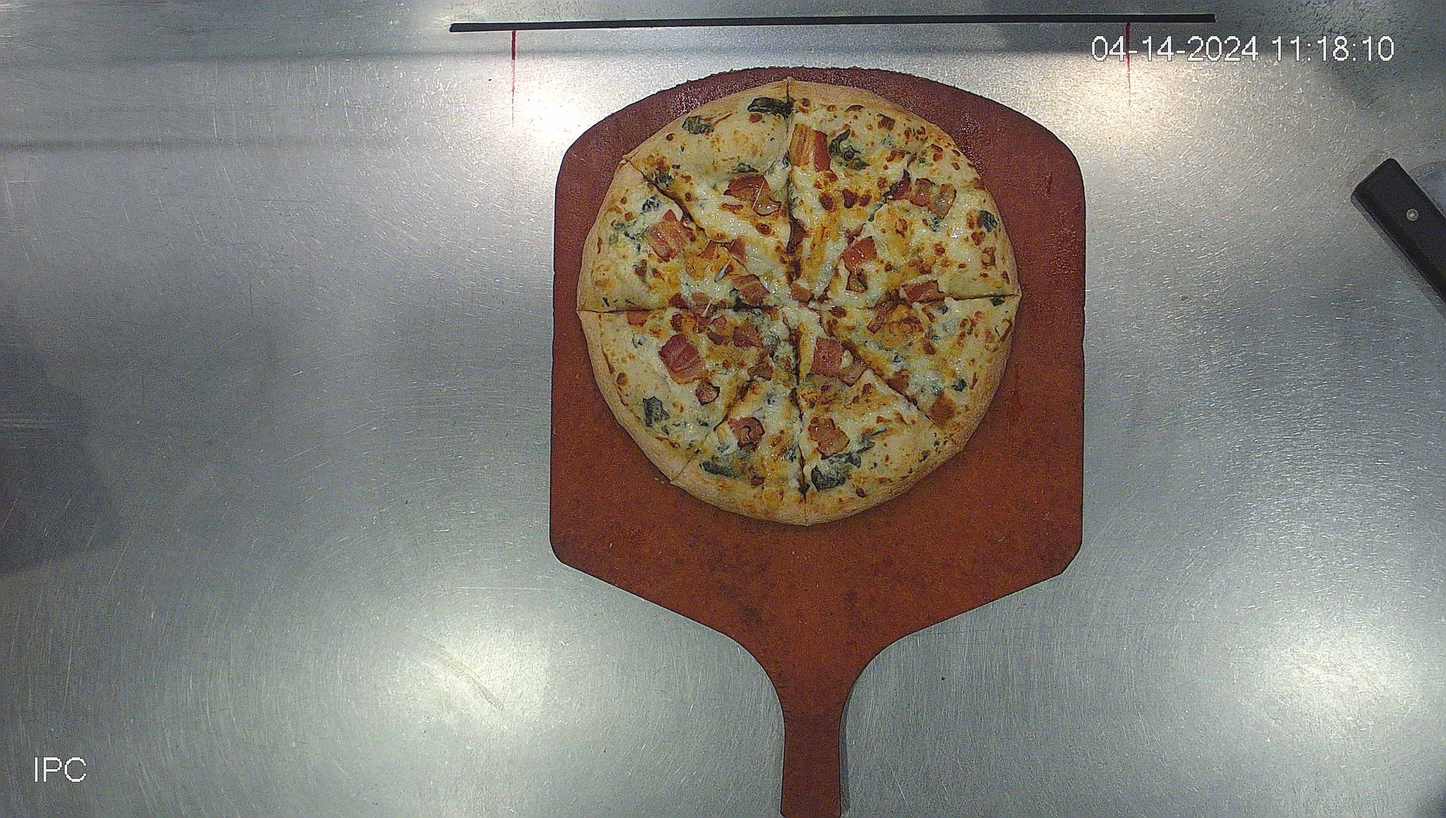pepporoni: (575, 81, 1023, 527)
